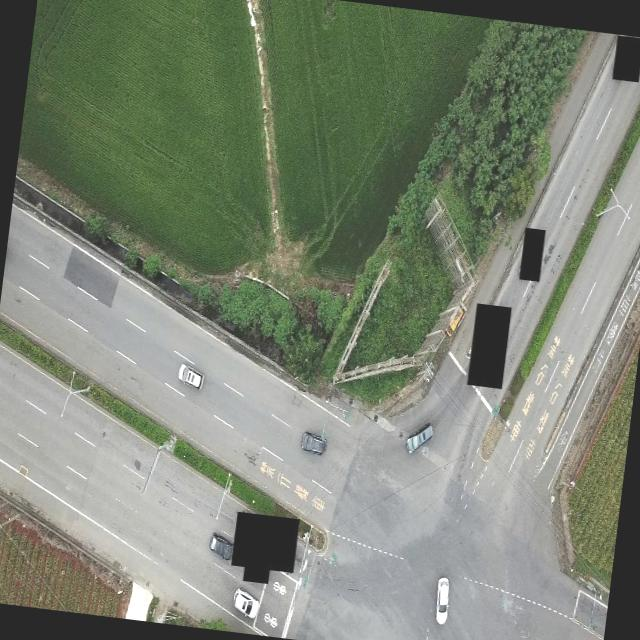car: (404, 418, 434, 456), (230, 584, 261, 620), (432, 576, 452, 624), (207, 530, 235, 560), (299, 428, 327, 456), (176, 362, 204, 390)
